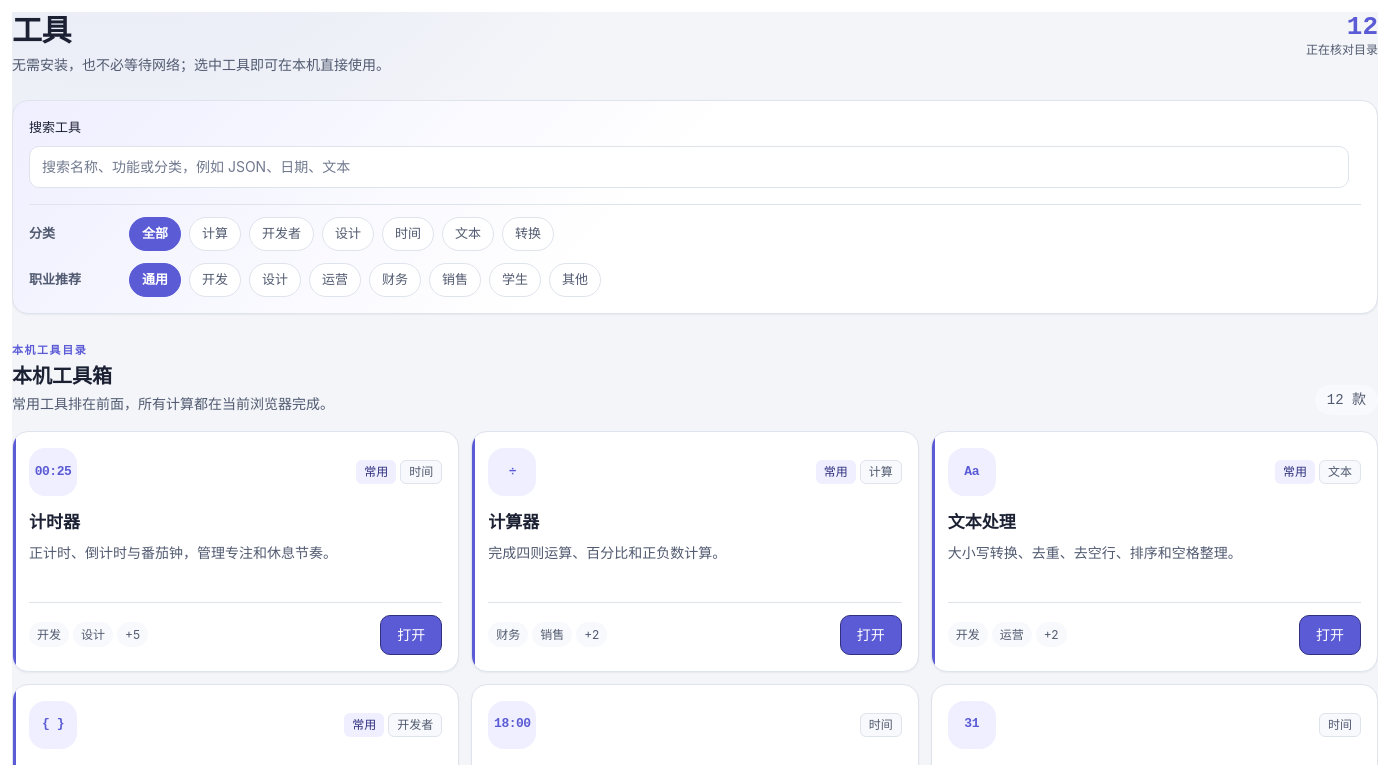
Test: ToolsPage 本机工具箱 › 职业 chips 本机即时生效并尝试同步偏好
Click the button "设计" in the row of "职业推荐" at (275, 280), box [249,263,301,297]
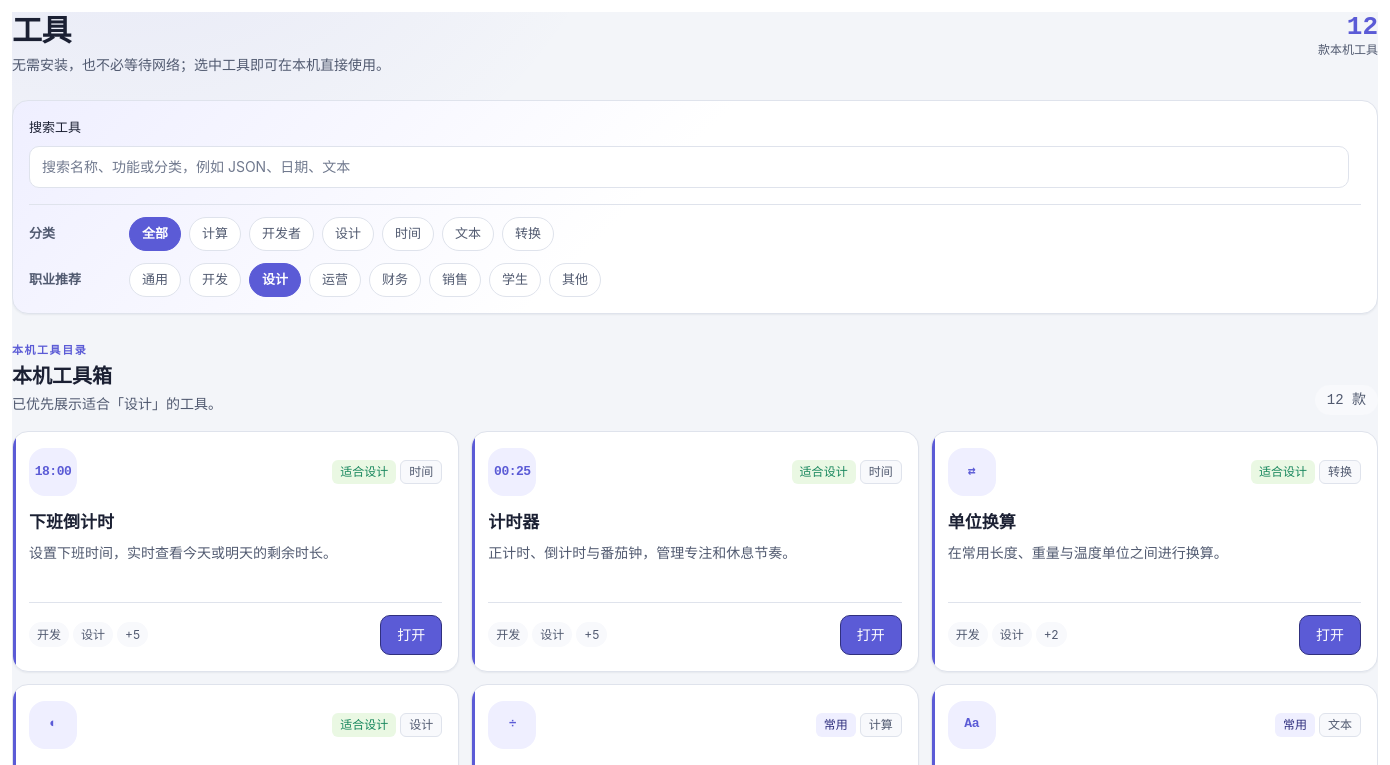
expect the text "已优先展示适合「设计」的工具。" is shown: met, box [12,393,222,416]
